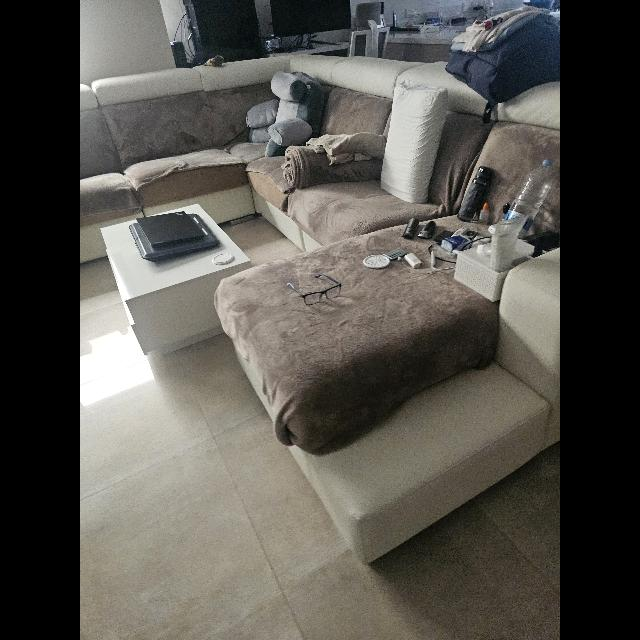glasses: (287, 274, 341, 306)
